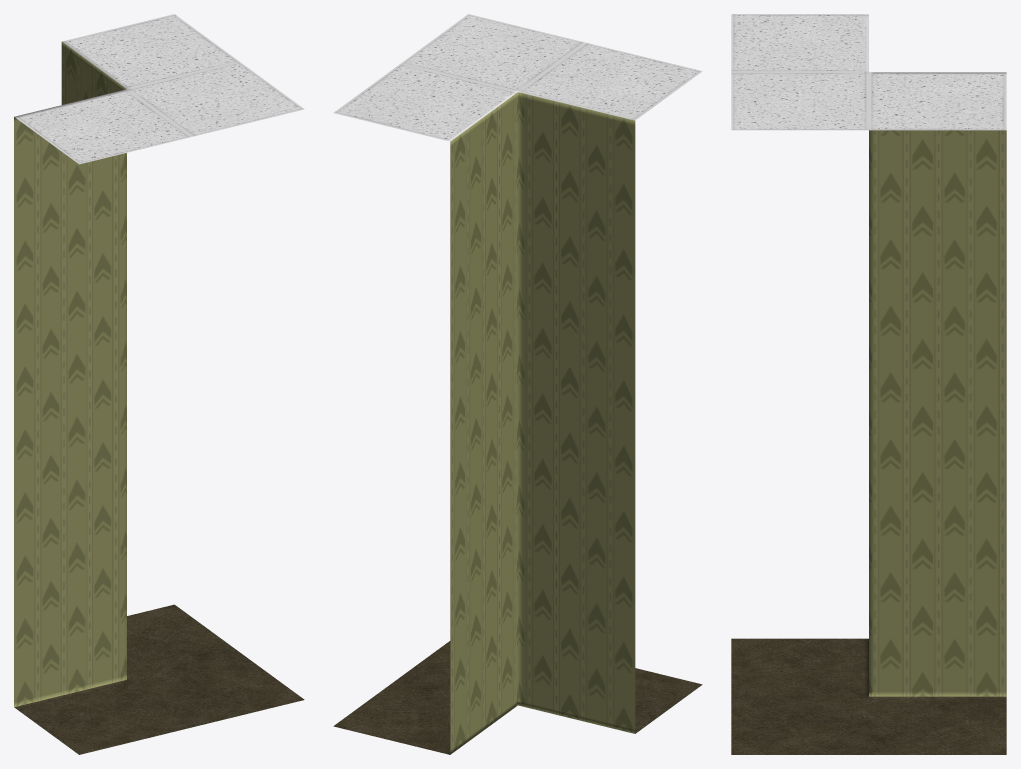
File: TileCorner.gltf
The picture shows the model from 3 angles, left to right: view 1: azimuth 30°, elevation 25°; view 2: azimuth 150°, elevation 25°; view 3: azimuth 270°, elevation 25°; orthographic projection. The views are drawn at different scales.
Parts seen in each view (by area): view 1: [intangible]Corner; view 2: [intangible]Corner; view 3: [intangible]Corner.
Boxes of the visible parts, <box> form: [intangible]Corner: <box>14,14,304,754</box>; [intangible]Corner: <box>333,14,702,754</box>; [intangible]Corner: <box>731,14,1006,754</box>.
Size of what is drawn, in the model's own units: 1 by 2.5 by 1.
Materials: 3 (3 with a texture image).
